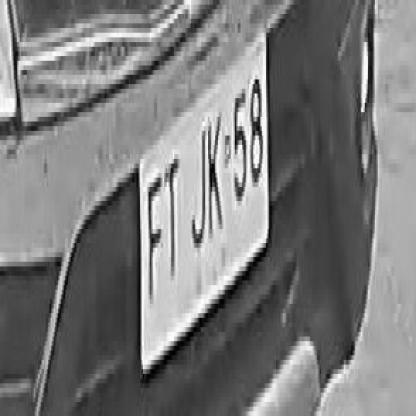Patente: (136, 17, 275, 388)
